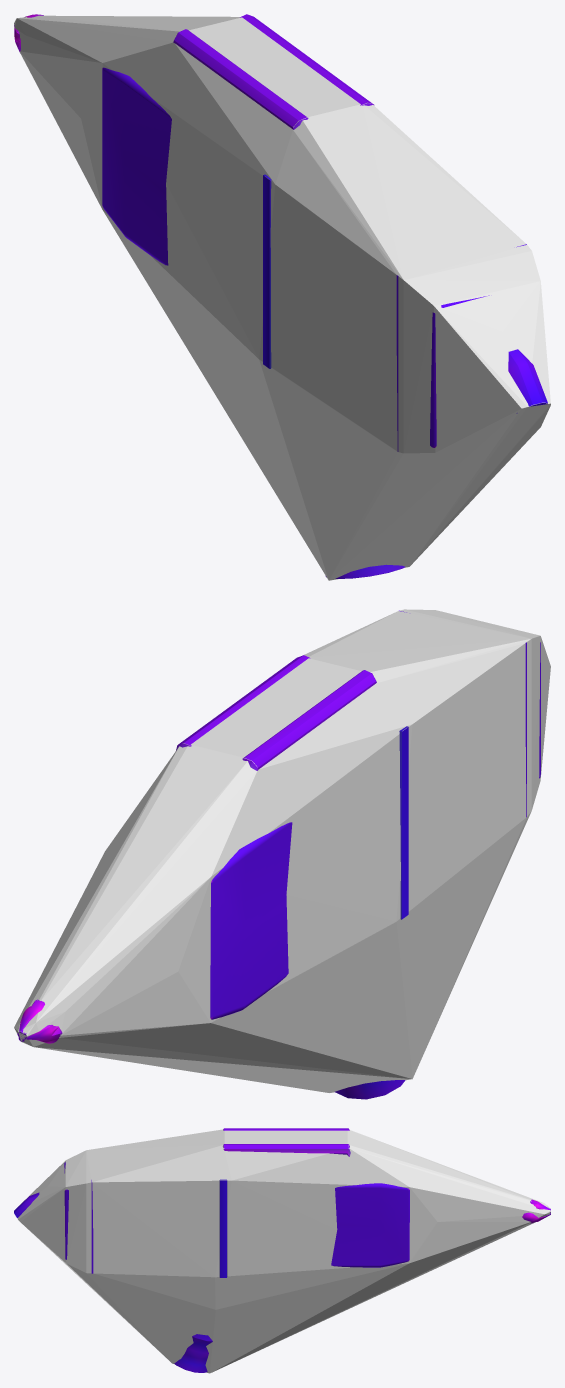
File: MESH_SmallProp_Tool_SeafloorDrill_2611.fbx
The picture shows the model from 3 angles, top to bottom: view 1: azimuth 30°, elevation 25°; view 2: azimuth 150°, elevation 25°; view 3: azimuth 270°, elevation 25°; orthographic projection. The views are drawn at different scales.
Parts seen in each view (by area): view 1: COL_SmallProp_Tool_SeafloorDrill_2611, MESH_SmallProp_Tool_SeafloorDrill_2611_LOD0; view 2: COL_SmallProp_Tool_SeafloorDrill_2611, MESH_SmallProp_Tool_SeafloorDrill_2611_LOD0; view 3: COL_SmallProp_Tool_SeafloorDrill_2611, MESH_SmallProp_Tool_SeafloorDrill_2611_LOD0.
Part boxes in pixels (x1,y1,x2,y2): COL_SmallProp_Tool_SeafloorDrill_2611: (14,15,550,580); MESH_SmallProp_Tool_SeafloorDrill_2611_LOD0: (14,14,547,578); COL_SmallProp_Tool_SeafloorDrill_2611: (14,609,550,1092); MESH_SmallProp_Tool_SeafloorDrill_2611_LOD0: (17,610,540,1099); COL_SmallProp_Tool_SeafloorDrill_2611: (17,1129,550,1373); MESH_SmallProp_Tool_SeafloorDrill_2611_LOD0: (14,1128,550,1372).
Size of what is drawn, in the model's own units: 6.04 by 18.66 by 39.22.
